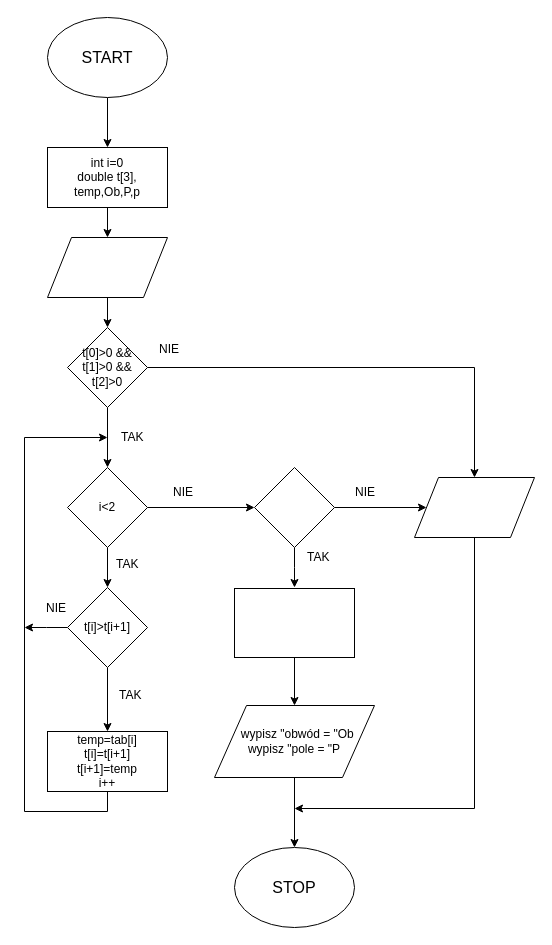
This 552x945 diagram has some shape labels left out. Here are the shapes that lost their labels. From the top down, the centre of each, then its label:
point (107, 267): wczytaj 3 liczby do tablicy
point (294, 507): t[0]+t[1]>t[2]
point (474, 507): wypisz "taki trójkąt nie istnieje"
point (294, 623): Ob=t[0]+t[1]+t[2] p=Ob/2 P=sqrt(p*(p-t[0])* ((p-t[1])*(p-t[2]))
